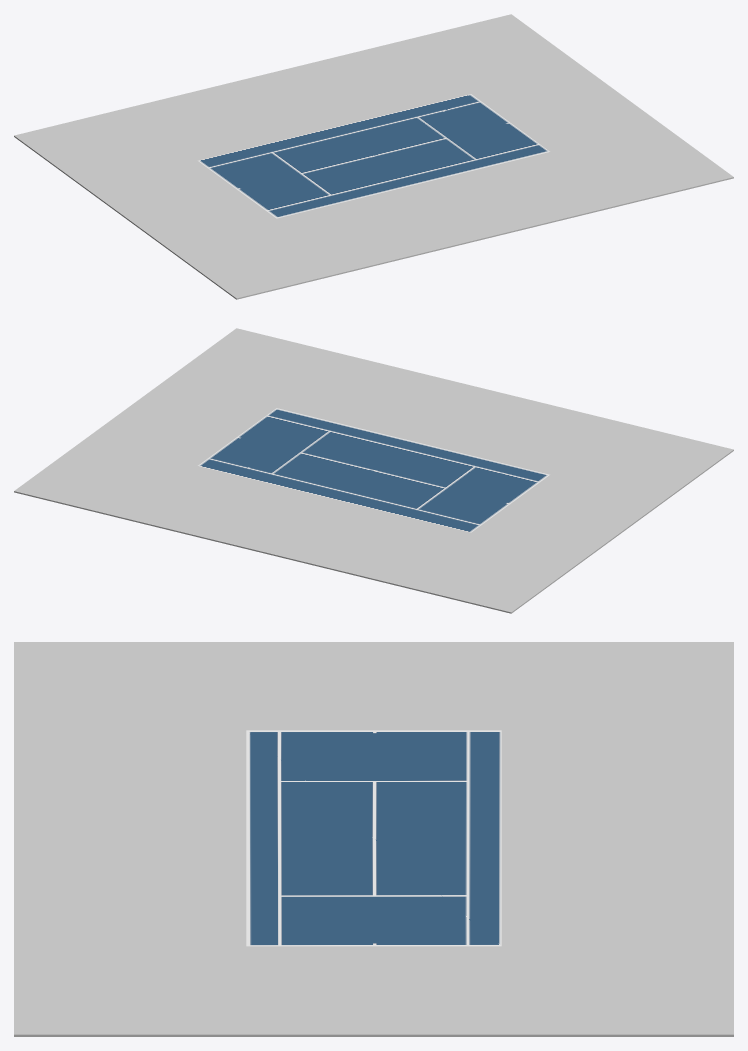
Rendered from court.glb.
3 views of the same model, one above another, from view 1: azimuth 30°, elevation 25°; view 2: azimuth 150°, elevation 25°; view 3: azimuth 270°, elevation 25° (orthographic). The views are drawn at different scales.
Parts seen in each view (by area): view 1: Background, Court; view 2: Background, Court; view 3: Background, Court.
Part boxes in pixels (x1,y1,x2,y2): Background: (14,14,733,299); Court: (198,94,549,218); Background: (14,328,733,613); Court: (198,408,549,532); Background: (14,642,733,1036); Court: (246,730,501,946).
Bounding box in the file's own units: 40 × 0.1 × 31.
1 material, 1 textured.
